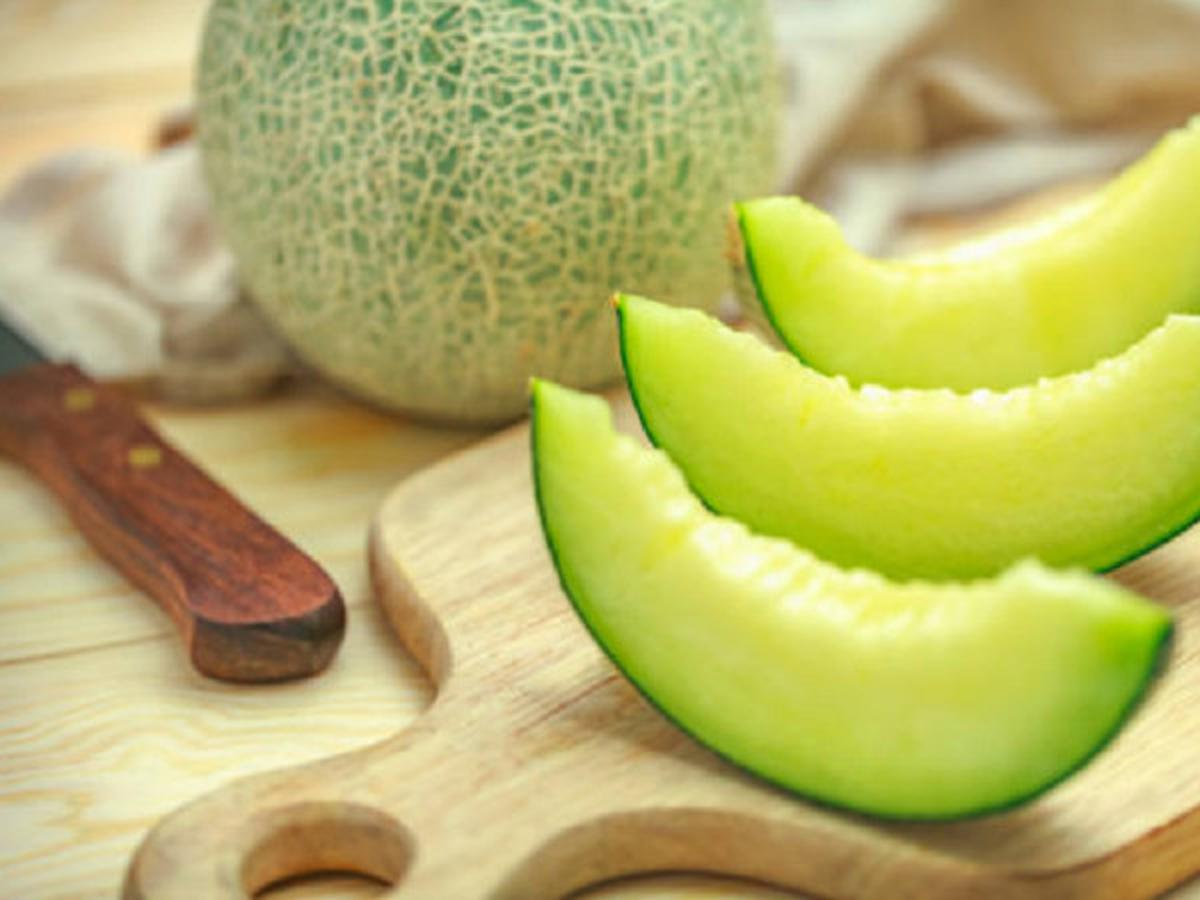Melon: (516, 377, 1127, 811), (615, 285, 1169, 574), (707, 185, 1200, 406)
